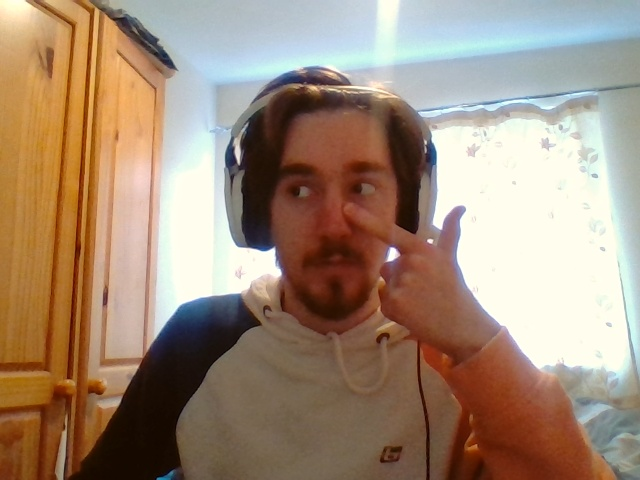luck: (342, 200, 465, 337)
